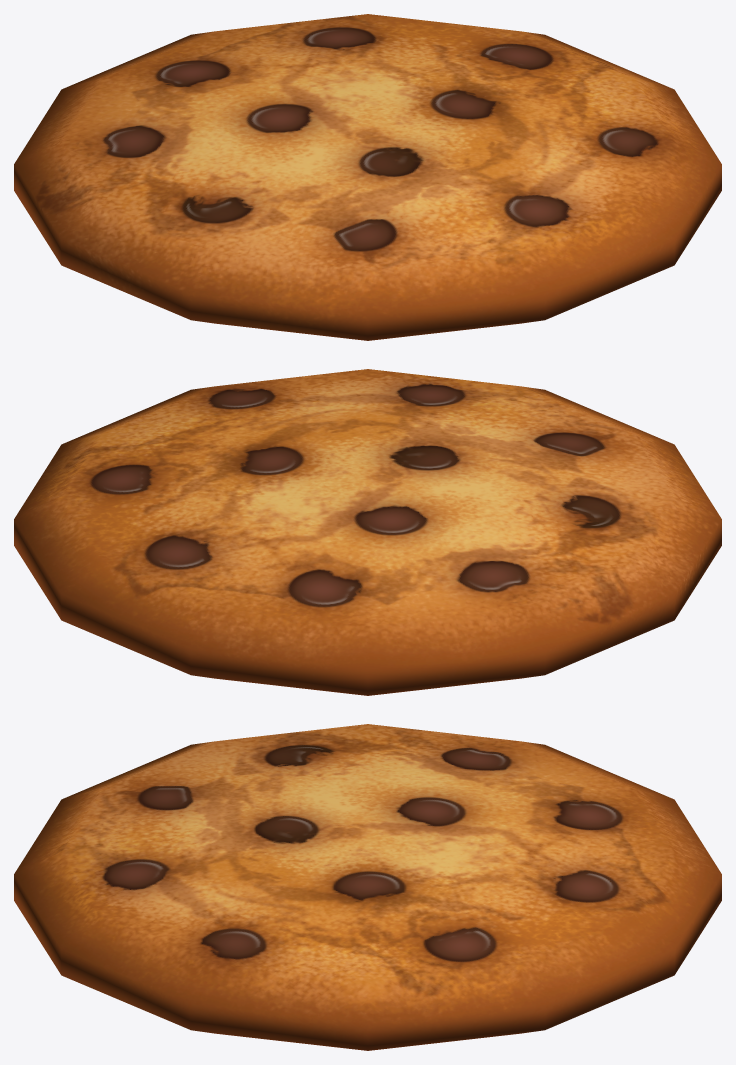
Rendered from Cookie_01.fbx.
The picture shows the model from 3 angles, top to bottom: view 1: azimuth 30°, elevation 25°; view 2: azimuth 150°, elevation 25°; view 3: azimuth 270°, elevation 25°; orthographic projection.
Parts seen in each view (by area): view 1: Cookie_01; view 2: Cookie_01; view 3: Cookie_01.
Boxes of the visible parts, x1=… form: Cookie_01: x1=14, y1=14, x2=721, y2=340; Cookie_01: x1=14, y1=369, x2=721, y2=695; Cookie_01: x1=14, y1=724, x2=721, y2=1050.
Bounding box in the file's own units: 63.45 × 8.89 × 63.45.
